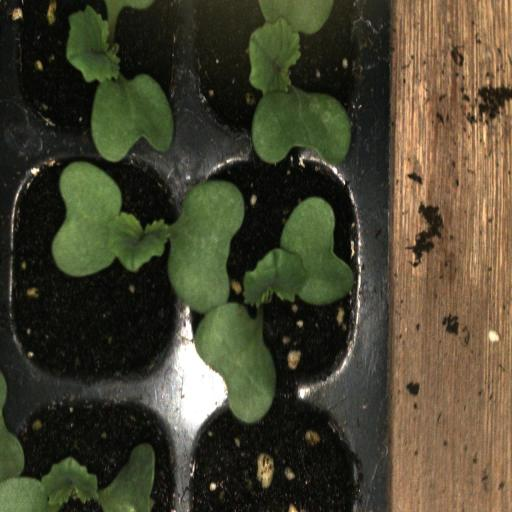seedling: (184, 152, 379, 396), (12, 152, 188, 386), (189, 0, 374, 151), (12, 0, 190, 150)
